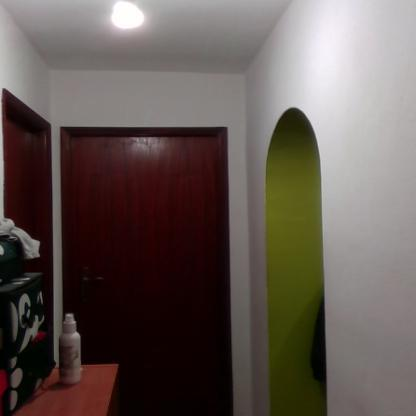door: (69, 134, 234, 416), (4, 108, 52, 366)
lever: (78, 274, 106, 286)
